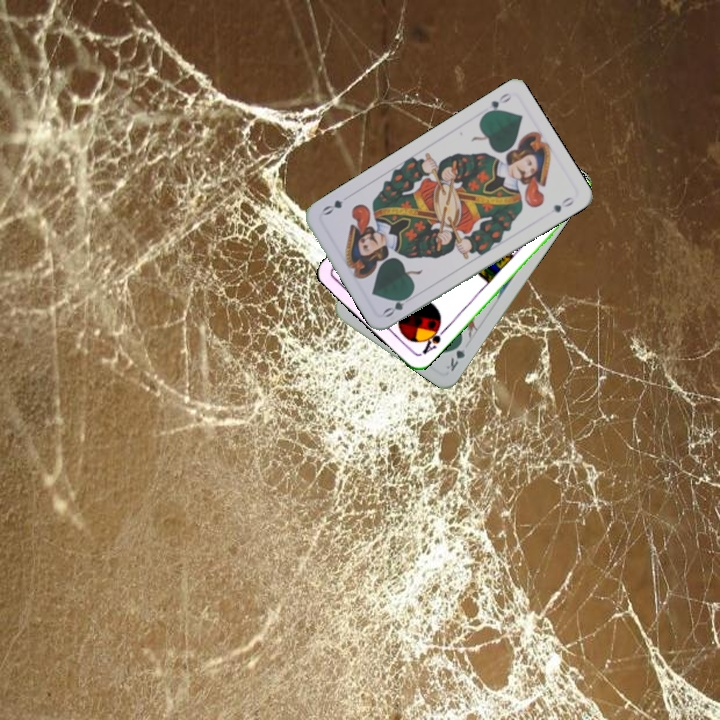GK: (442, 336, 468, 374)
GO: (379, 289, 416, 320), (479, 89, 514, 119)
SA: (416, 321, 448, 358)
